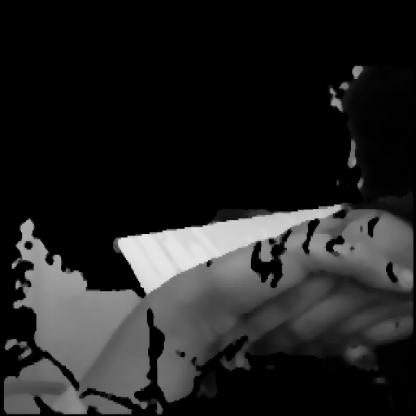handshake: (32, 184, 416, 414)
